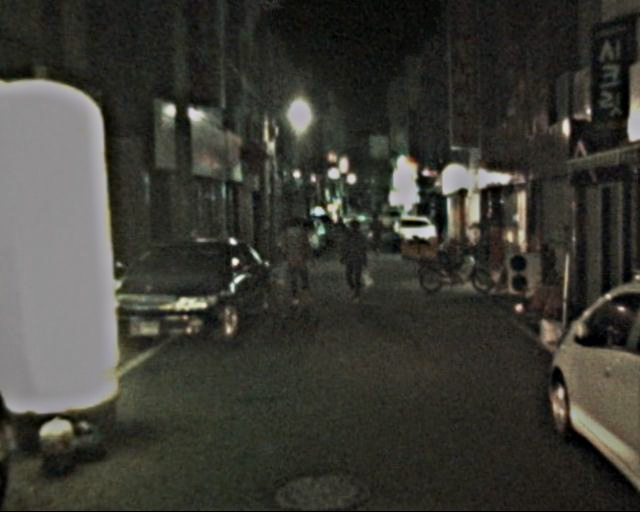person: (279, 214, 320, 312), (336, 218, 372, 307), (368, 214, 384, 253)
